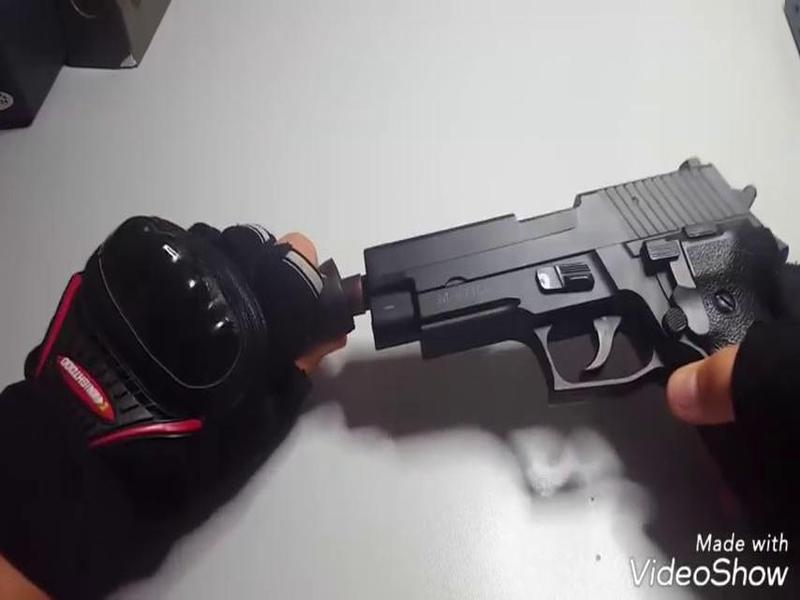Pistola: (370, 144, 800, 435)
